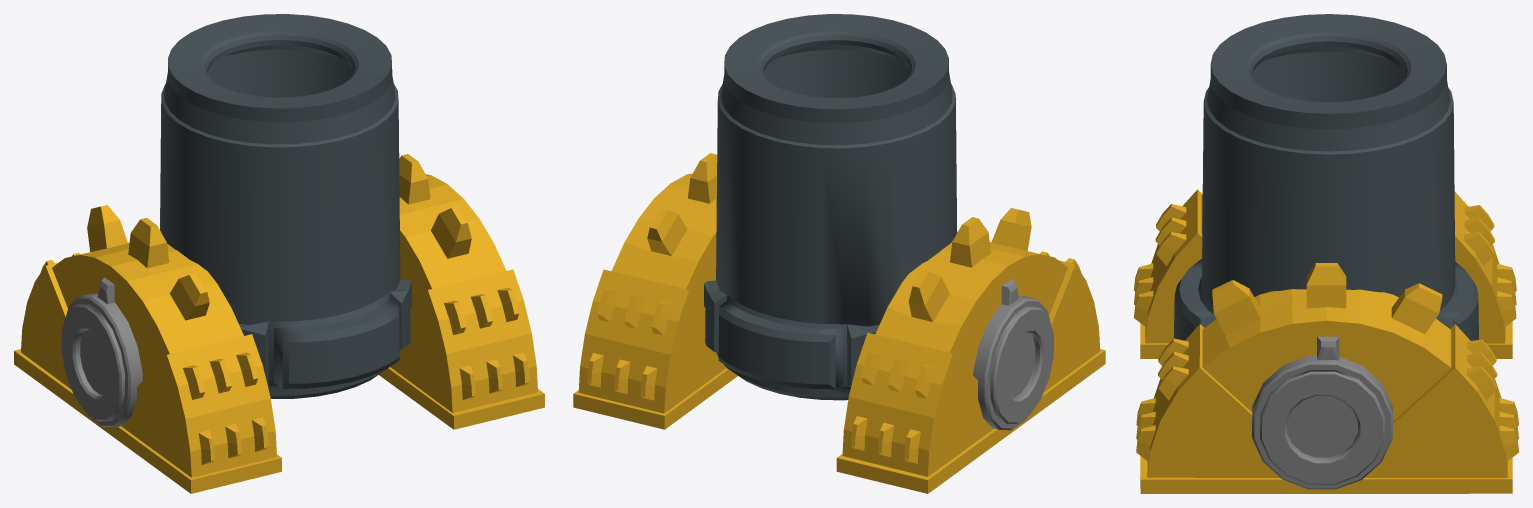
The model's file is Cannon.fbx.
3 renders of one model, left to right at view 1: azimuth 30°, elevation 25°; view 2: azimuth 150°, elevation 25°; view 3: azimuth 270°, elevation 25°, orthographic. The views are drawn at different scales.
Parts seen in each view (by area): view 1: Cylinder.004, Cylinder, Cylinder.001; view 2: Cylinder.004, Cylinder, Cylinder.001; view 3: Cylinder.004, Cylinder, Cylinder.001.
Part boxes in pixels (x1,y1,x2,y2): Cylinder.004: (160, 14, 411, 398); Cylinder: (14, 154, 544, 493); Cylinder.001: (61, 277, 142, 427); Cylinder.004: (703, 14, 957, 400); Cylinder: (573, 153, 1105, 493); Cylinder.001: (973, 279, 1053, 430); Cylinder.004: (1174, 14, 1478, 340); Cylinder: (1134, 189, 1518, 493); Cylinder.001: (1252, 336, 1392, 489).
Size of the model in its own units: 894 by 739 by 758.
